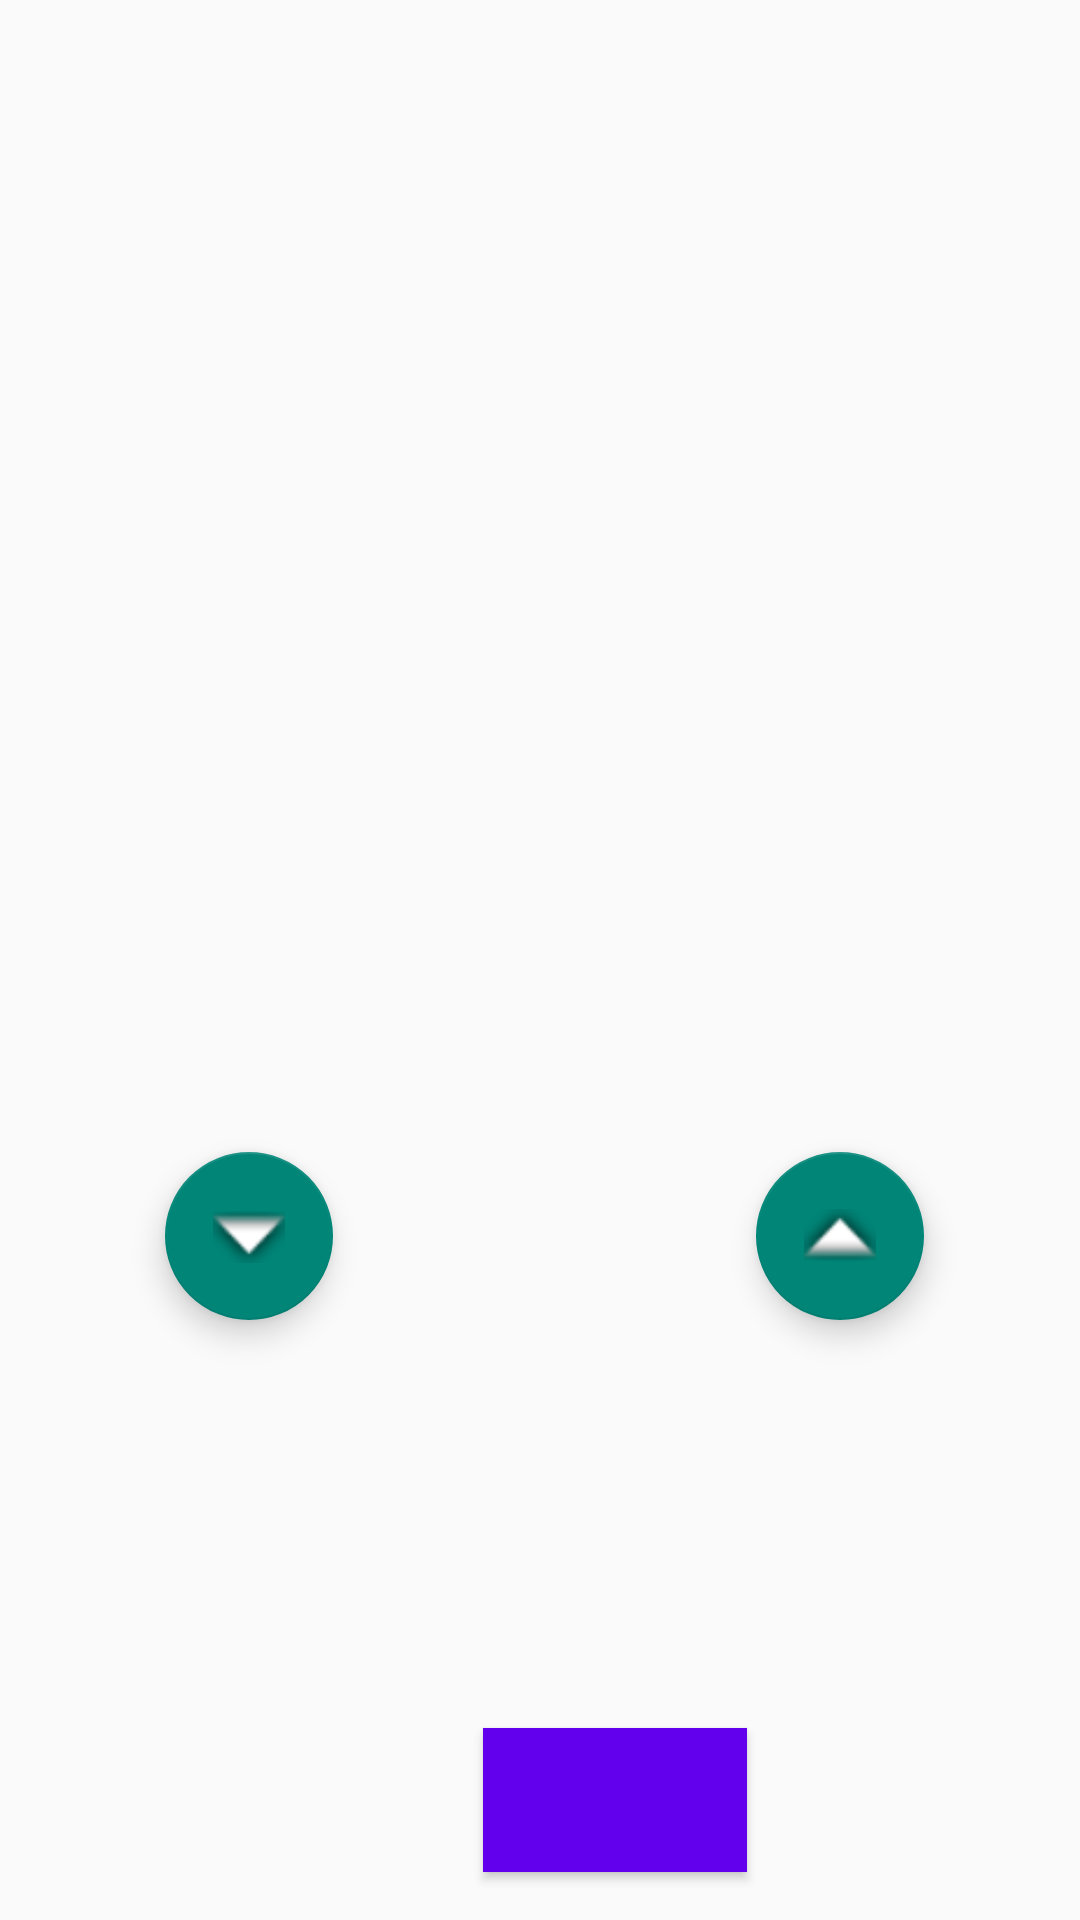

Named icons in this screenshot (1080px×1920px) and their centers, [x,y]:
arrow down float: [249,1236]
arrow up float: [840,1236]
